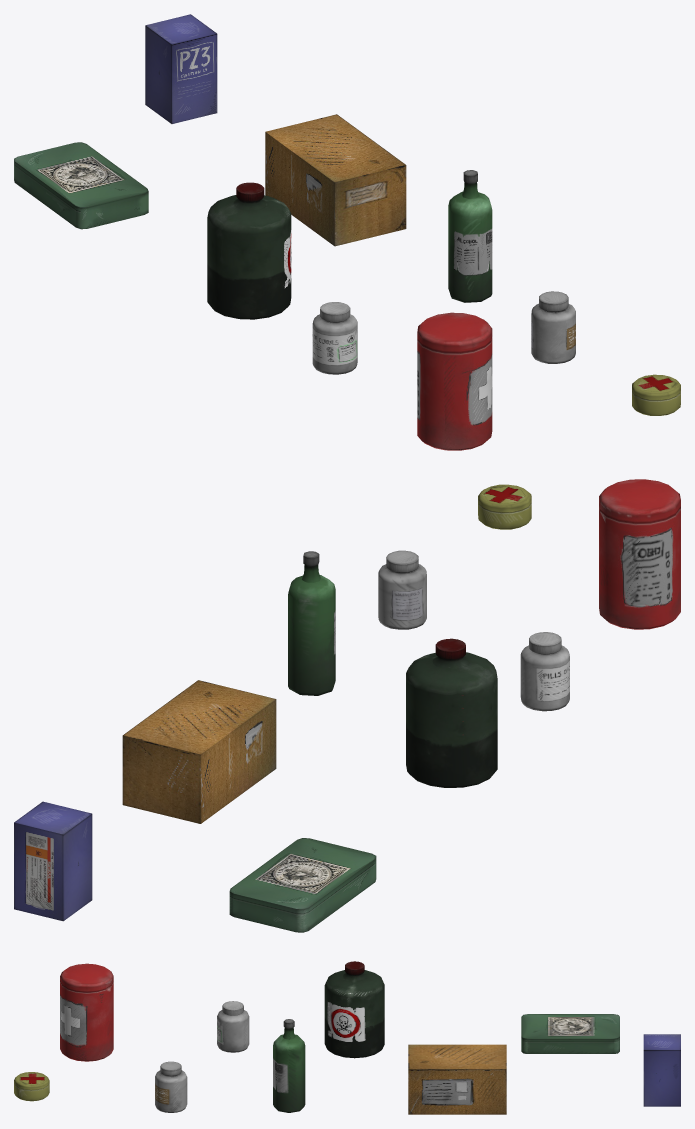
Rendered from medicalbazar.fbx.
3 views of the same model, one above another, from view 1: azimuth 30°, elevation 25°; view 2: azimuth 150°, elevation 25°; view 3: azimuth 270°, elevation 25° (orthographic). The views are drawn at different scales.
Visible parts, largest first — view 1: polySurface384, polySurface383, polySurface387, polySurface385, polySurface386, polySurface382, polySurface381, polySurface380, polySurface388; view 2: polySurface384, polySurface383, polySurface387, polySurface385, polySurface386, polySurface382, polySurface381, polySurface380, polySurface388; view 3: polySurface384, polySurface383, polySurface387, polySurface385, polySurface386, polySurface382, polySurface381, polySurface380, polySurface388.
Boxes of the visible parts, x1,y1,x2,y2 form: polySurface384: (265,114,406,246); polySurface383: (207,182,291,319); polySurface387: (417,312,492,450); polySurface385: (14,142,148,229); polySurface386: (145,14,217,123); polySurface382: (448,170,492,302); polySurface381: (312,302,357,374); polySurface380: (531,291,575,363); polySurface388: (632,374,680,415); polySurface384: (122,680,276,823); polySurface383: (406,638,497,787); polySurface387: (599,479,680,629); polySurface385: (229,838,376,932); polySurface386: (14,801,92,921); polySurface382: (288,551,335,695); polySurface381: (520,632,569,711); polySurface380: (378,550,426,629); polySurface388: (478,484,531,529); polySurface384: (408,1044,506,1114); polySurface383: (324,961,384,1058); polySurface387: (60,963,113,1061); polySurface385: (521,1014,619,1053); polySurface386: (643,1034,680,1106); polySurface382: (273,1019,305,1112); polySurface381: (217,1001,249,1052); polySurface380: (155,1061,187,1112); polySurface388: (14,1072,49,1101).
Bounding box in the file's own units: 43.06 × 19.94 × 139.
